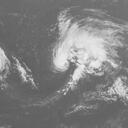cyclone: (52, 15, 109, 73)
